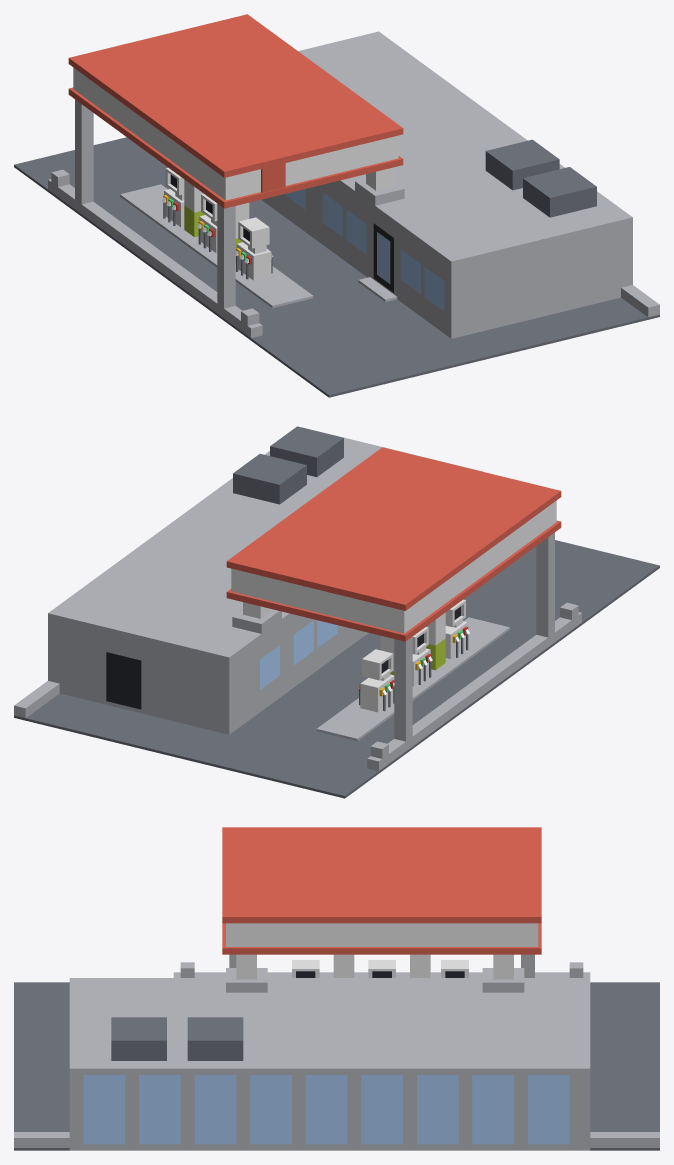
Rendered from City_gas.fbx.
The picture shows the model from 3 angles, top to bottom: view 1: azimuth 30°, elevation 25°; view 2: azimuth 150°, elevation 25°; view 3: azimuth 270°, elevation 25°; orthographic projection. The views are drawn at different scales.
Visible parts, largest first — view 1: City_gas; view 2: City_gas; view 3: City_gas.
Boxes of the visible parts, left/top/right/bottom form: City_gas: left=14, top=14, right=659, bottom=397; City_gas: left=14, top=426, right=659, bottom=798; City_gas: left=14, top=827, right=659, bottom=1150.
Size of the model in its own units: 5693 by 9304 by 2480.
